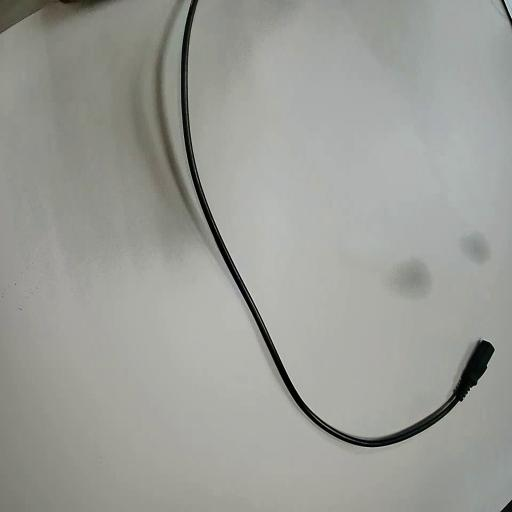wire: (181, 0, 493, 445)
